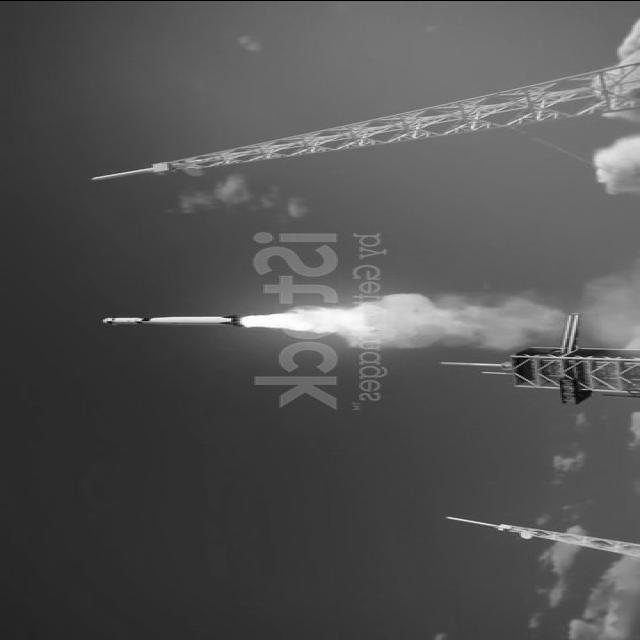Missile: (92, 312, 256, 329)
